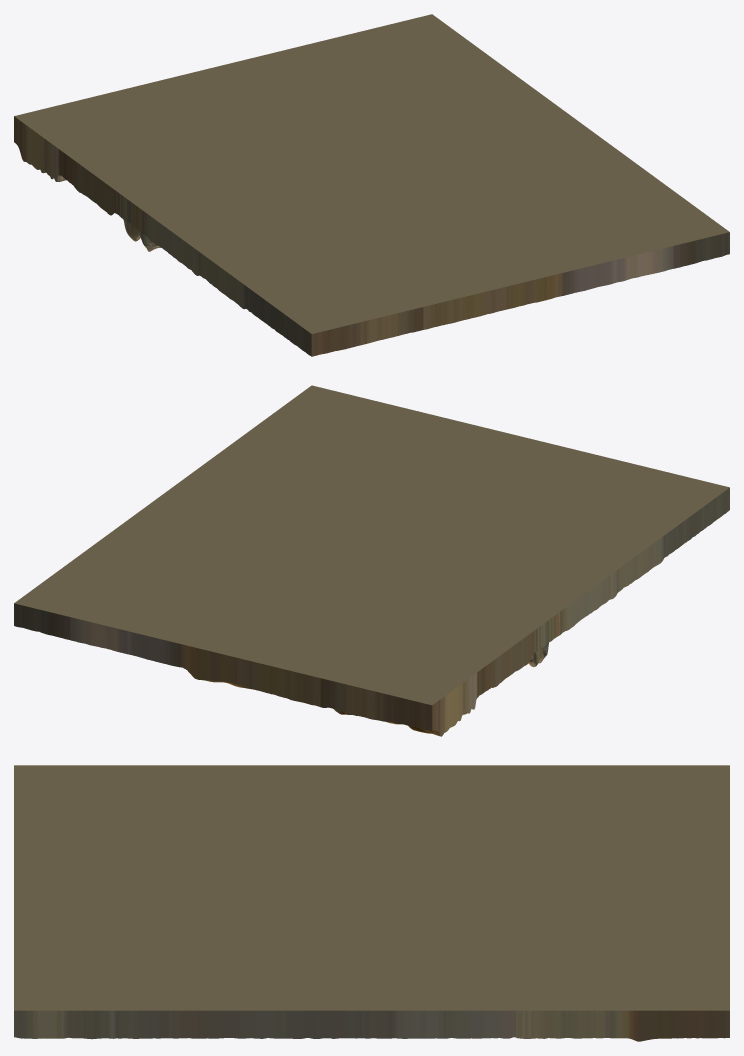
File: napoleon-crossing-the-alps.glb
3 renders of one model, top to bottom at view 1: azimuth 30°, elevation 25°; view 2: azimuth 150°, elevation 25°; view 3: azimuth 270°, elevation 25°, orthographic. The views are drawn at different scales.
Parts seen in each view (by area): view 1: Napoleon Crossing the Alps - Jacques-Louis David.stl; view 2: Napoleon Crossing the Alps - Jacques-Louis David.stl; view 3: Napoleon Crossing the Alps - Jacques-Louis David.stl.
Boxes of the visible parts, x1,y1,x2,y2 form: Napoleon Crossing the Alps - Jacques-Louis David.stl: [14, 14, 729, 356]; Napoleon Crossing the Alps - Jacques-Louis David.stl: [14, 385, 729, 736]; Napoleon Crossing the Alps - Jacques-Louis David.stl: [14, 765, 729, 1041].
Bounding box in the file's own units: 100 × 12.68 × 123.
Materials: 1 (1 with a texture image).
